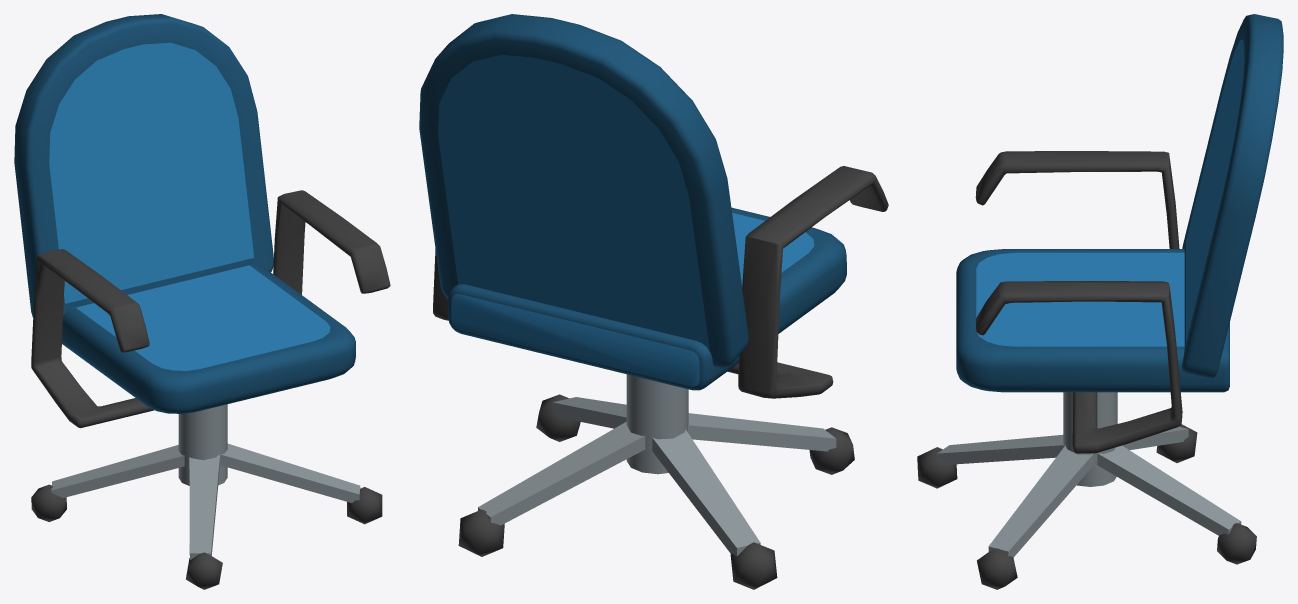
File: Chair-3.fbx
3 views of the same model, side by side, from view 1: azimuth 30°, elevation 25°; view 2: azimuth 150°, elevation 25°; view 3: azimuth 270°, elevation 25° (orthographic). The views are drawn at different scales.
Visible parts, largest first — view 1: Chair-3; view 2: Chair-3; view 3: Chair-3.
Part boxes in pixels (x1=…): Chair-3: x1=14, y1=14, x2=390, y2=589; Chair-3: x1=419, y1=14, x2=888, y2=589; Chair-3: x1=917, y1=14, x2=1283, y2=589.
Size of the model in its own units: 0.9012 by 1.42 by 0.9557.
